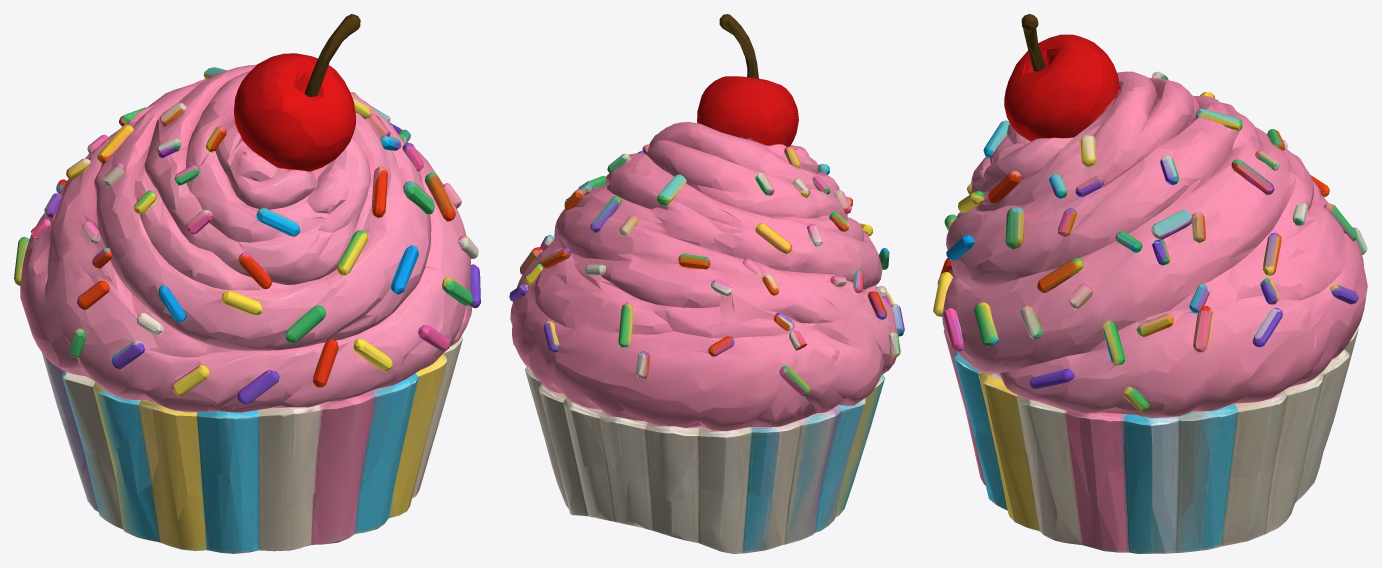
The model's file is cupcake_hat.glb.
The picture shows the model from 3 angles, left to right: view 1: azimuth 30°, elevation 25°; view 2: azimuth 150°, elevation 25°; view 3: azimuth 270°, elevation 25°; orthographic projection. The views are drawn at different scales.
Visible parts, largest first — view 1: Mesh_0; view 2: Mesh_0; view 3: Mesh_0.
Boxes of the visible parts, x1=… form: Mesh_0: x1=14, y1=14, x2=480, y2=553; Mesh_0: x1=509, y1=14, x2=904, y2=553; Mesh_0: x1=933, y1=14, x2=1367, y2=553.
Bounding box in the file's own units: 0.8334 × 1 × 0.8002.
Materials: 1 (1 with a texture image).
